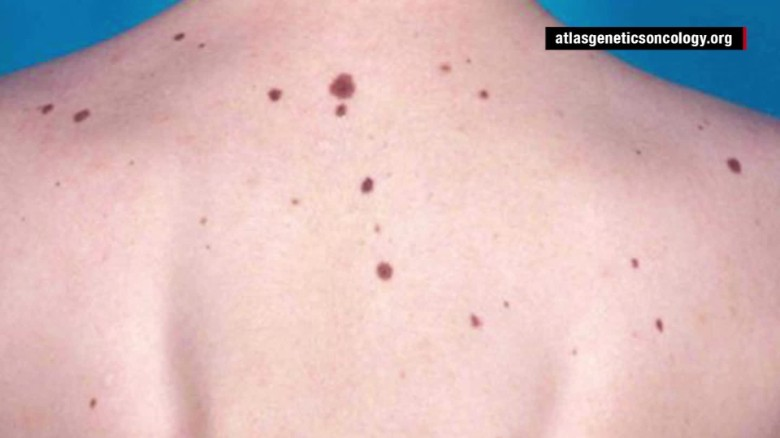melanoma: (114, 22, 486, 308)
